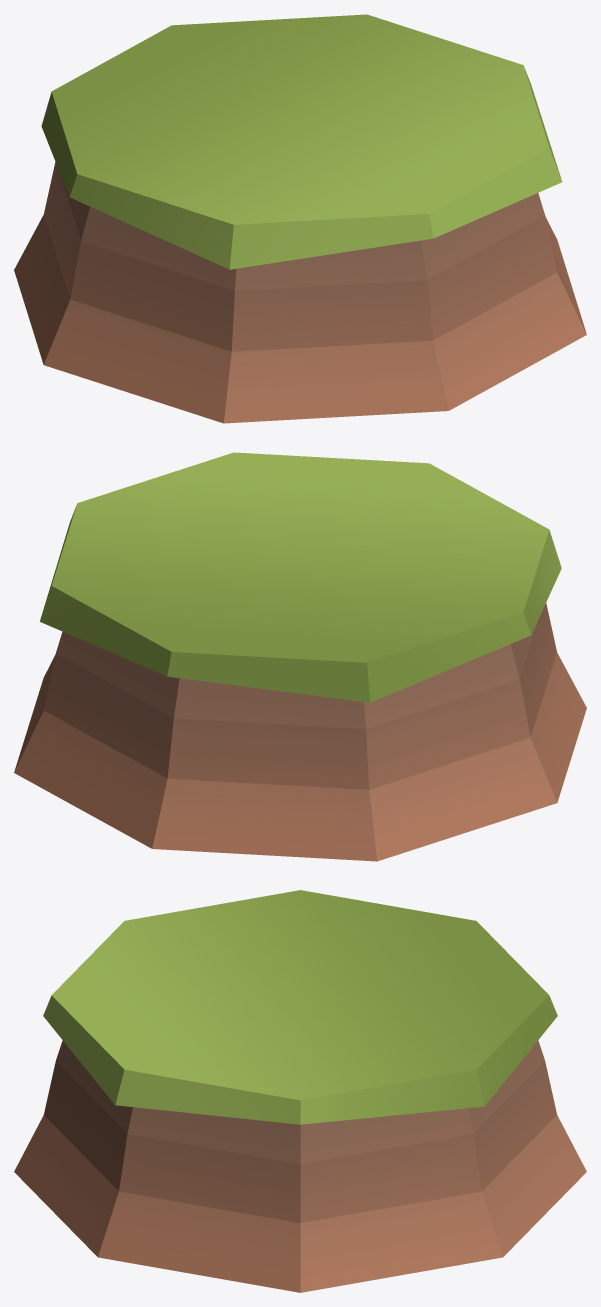
Rendered from cliff5.fbx.
3 views of the same model, one above another, from view 1: azimuth 30°, elevation 25°; view 2: azimuth 150°, elevation 25°; view 3: azimuth 270°, elevation 25° (orthographic). The views are drawn at different scales.
Visible parts, largest first — view 1: cliff5; view 2: cliff5; view 3: cliff5.
Boxes of the visible parts, <box> form: cliff5: <box>14,14,586,423</box>; cliff5: <box>14,452,586,861</box>; cliff5: <box>14,890,586,1292</box>.
Size of the model in its own units: 3.21 by 1.09 by 3.21.
